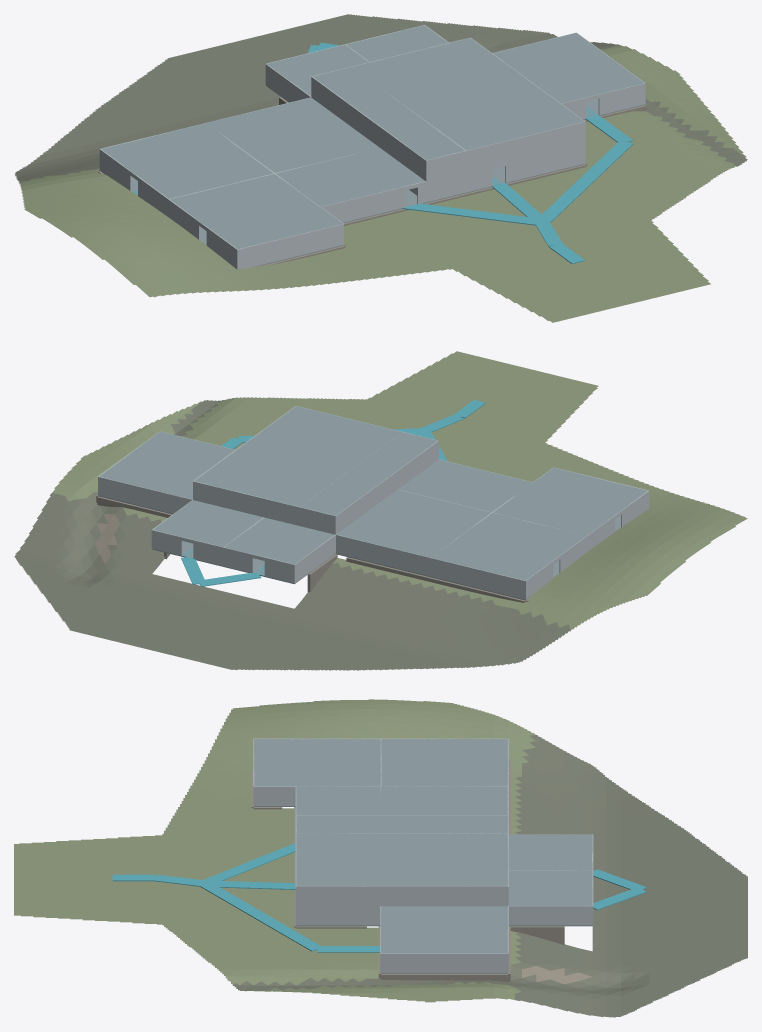
Rendered from supported-stairs.glb.
The picture shows the model from 3 angles, top to bottom: view 1: azimuth 30°, elevation 25°; view 2: azimuth 150°, elevation 25°; view 3: azimuth 270°, elevation 25°; orthographic projection. The views are drawn at different scales.
Parts seen in each view (by area): view 1: Saved editor macroterrain WLD-13, Ceiling cap processing, Ceiling cap boiler, Ceiling cap bunk, Ceiling cap mess, Ceiling cap cold, Ceiling cap wash, Wall processing S.001, Ceiling cap gallery, Wall processing S, Wall bunk S, Ceiling cap office (+13 smaller); view 2: Saved editor macroterrain WLD-13, Ceiling cap processing, Ceiling cap mess, Ceiling cap boiler, Ceiling cap bunk, Ceiling cap cold, Ceiling cap wash, Ceiling cap gallery, Ceiling cap office, Ceiling cap stores, Wall mess N, Wall boiler N (+13 smaller); view 3: Saved editor macroterrain WLD-13, Ceiling cap processing, Ceiling cap cold, Ceiling cap bunk, Ceiling cap mess, Wall processing E.001, Ceiling cap boiler, Ceiling cap office, Ceiling cap stores, Wall cold E, Ceiling cap wash, Wall stores E (+6 smaller).
Part boxes in pixels (x1=…): Saved editor macroterrain WLD-13: x1=14, y1=14, x2=747, y2=322; Ceiling cap processing: x1=313, y1=38, x2=584, y2=159; Ceiling cap boiler: x1=206, y1=97, x2=379, y2=172; Ceiling cap bunk: x1=170, y1=174, x2=342, y2=249; Ceiling cap mess: x1=101, y1=123, x2=273, y2=198; Ceiling cap cold: x1=493, y1=33, x2=644, y2=103; Ceiling cap wash: x1=276, y1=148, x2=425, y2=206; Wall processing S.001: x1=505, y1=122, x2=585, y2=182; Ceiling cap gallery: x1=313, y1=67, x2=439, y2=160; Wall processing S: x1=426, y1=144, x2=492, y2=201; Wall bunk S: x1=237, y1=224, x2=343, y2=269; Ceiling cap office: x1=266, y1=44, x2=368, y2=95; Saved editor macroterrain WLD-13: x1=14, y1=351, x2=747, y2=670; Ceiling cap processing: x1=194, y1=406, x2=437, y2=515; Ceiling cap mess: x1=431, y1=513, x2=586, y2=580; Ceiling cap boiler: x1=336, y1=489, x2=491, y2=557; Ceiling cap bunk: x1=493, y1=467, x2=647, y2=535; Ceiling cap cold: x1=99, y1=431, x2=234, y2=499; Ceiling cap wash: x1=398, y1=459, x2=532, y2=512; Ceiling cap gallery: x1=300, y1=438, x2=435, y2=515; Ceiling cap office: x1=224, y1=517, x2=334, y2=564; Ceiling cap stores: x1=153, y1=500, x2=263, y2=546; Wall mess N: x1=430, y1=557, x2=525, y2=599; Wall boiler N: x1=336, y1=534, x2=430, y2=576; Saved editor macroterrain WLD-13: x1=14, y1=699, x2=747, y2=1017; Ceiling cap processing: x1=296, y1=815, x2=507, y2=886; Ceiling cap cold: x1=381, y1=906, x2=507, y2=953; Ceiling cap bunk: x1=254, y1=739, x2=380, y2=786; Ceiling cap mess: x1=381, y1=739, x2=507, y2=786; Wall processing E.001: x1=296, y1=886, x2=439, y2=925; Ceiling cap boiler: x1=381, y1=786, x2=507, y2=814; Ceiling cap office: x1=508, y1=834, x2=592, y2=870; Ceiling cap stores: x1=508, y1=870, x2=592, y2=905; Wall cold E: x1=381, y1=953, x2=507, y2=973; Ceiling cap wash: x1=296, y1=786, x2=380, y2=814; Wall stores E: x1=508, y1=906, x2=592, y2=925.
Size of the model in its own units: 97 by 11.19 by 104.
